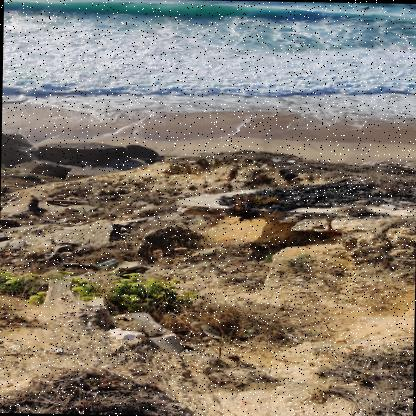Clear plastic bottle: (95, 258, 117, 268)
Drink can: (272, 158, 282, 162), (286, 160, 297, 163)
Glass bottle: (63, 262, 92, 266)
Unlabeled litter: (200, 324, 221, 338)
